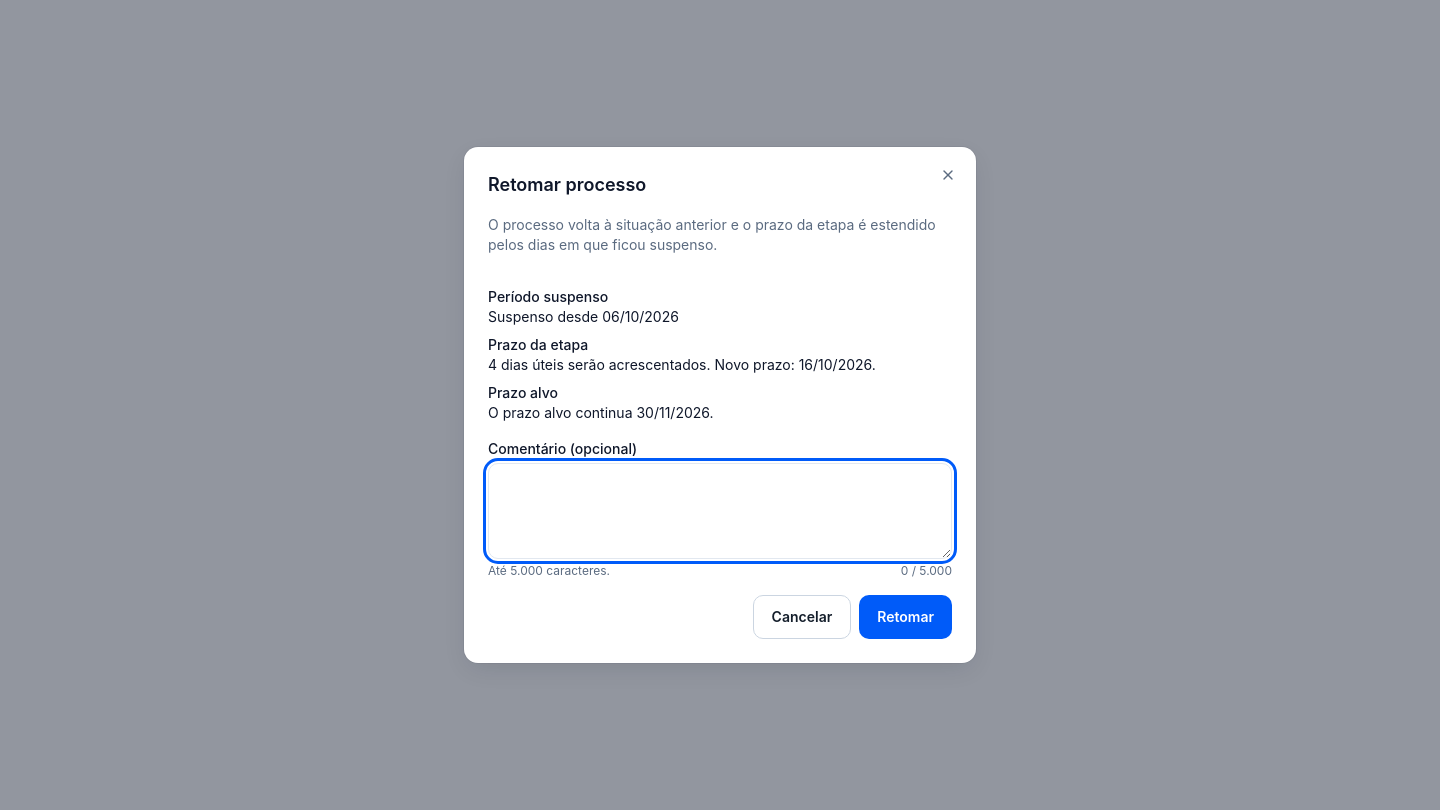
Test: SCR-116 · Diálogo "Retomar processo" (US-008) › [Sucesso] período, 4 dias úteis acrescidos (CAL-05/06), prazo alvo e PRC-24 com comentário
Expected: the text "Suspenso desde 06/10/2026" is shown, top-left (488, 308), bottom-right (679, 325)
Expected: the text "4 dias úteis serão acrescentados. Novo prazo: 16/10/2026." is shown, top-left (488, 356), bottom-right (876, 373)
Step 1. Type "Dotação definida." into the text box labelled "Comentário (opcional)" → coordinates (720, 511), box top-left (488, 463), bottom-right (952, 559)
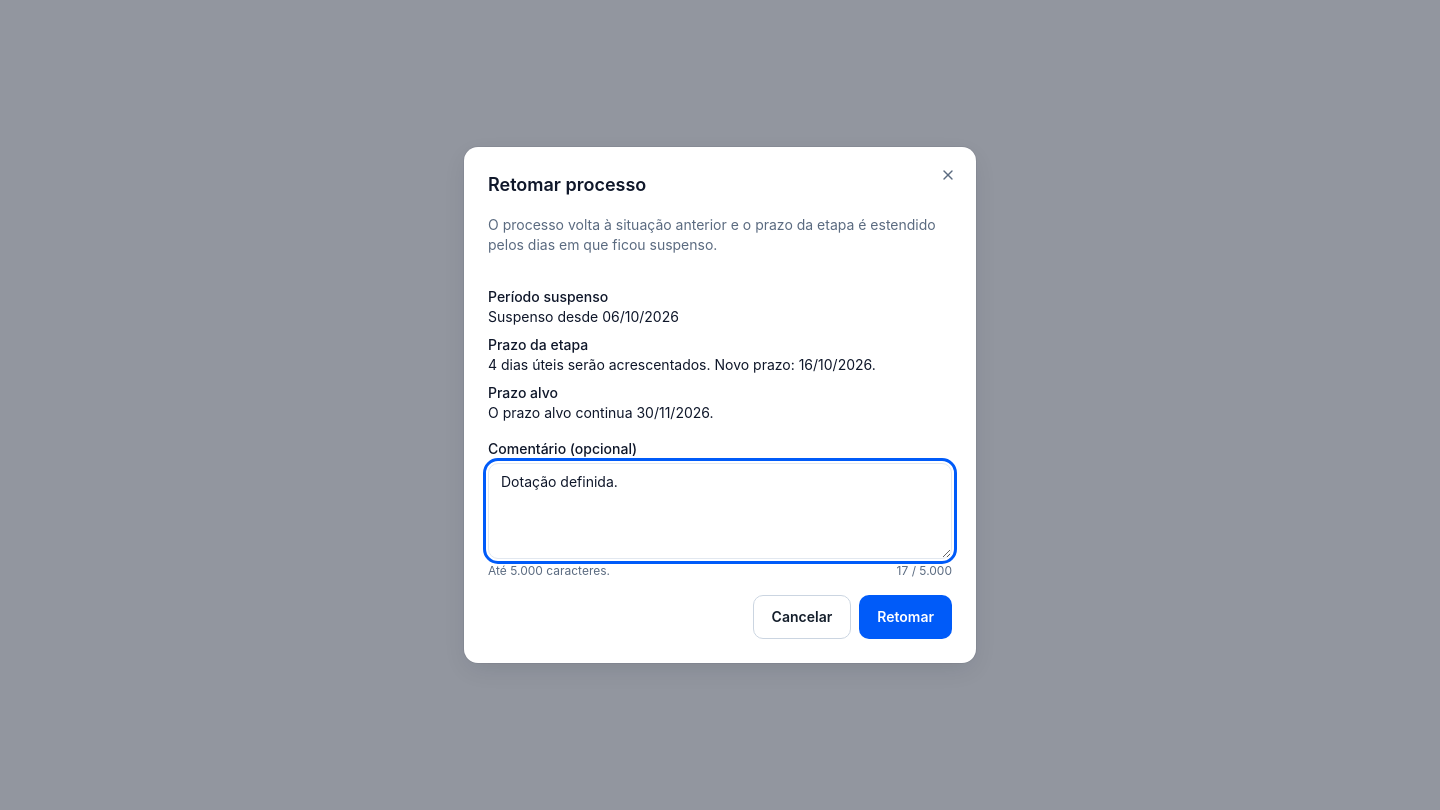
Step 2. Click the button "Retomar" → coordinates (906, 617), box top-left (859, 595), bottom-right (952, 639)
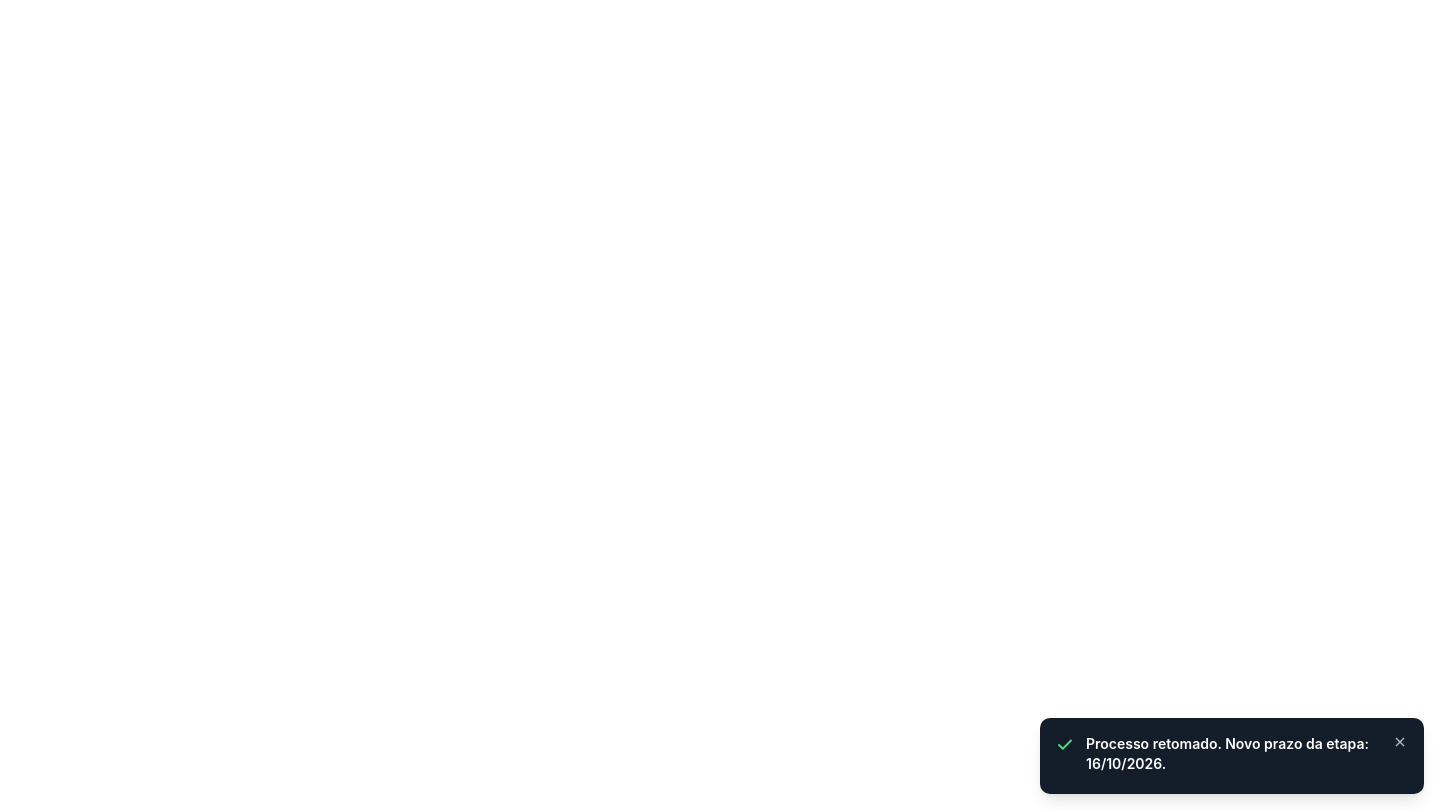
Result: the text "Processo retomado. Novo prazo da etapa: 16/10/2026." is shown at top-left (1086, 734), bottom-right (1376, 774)
